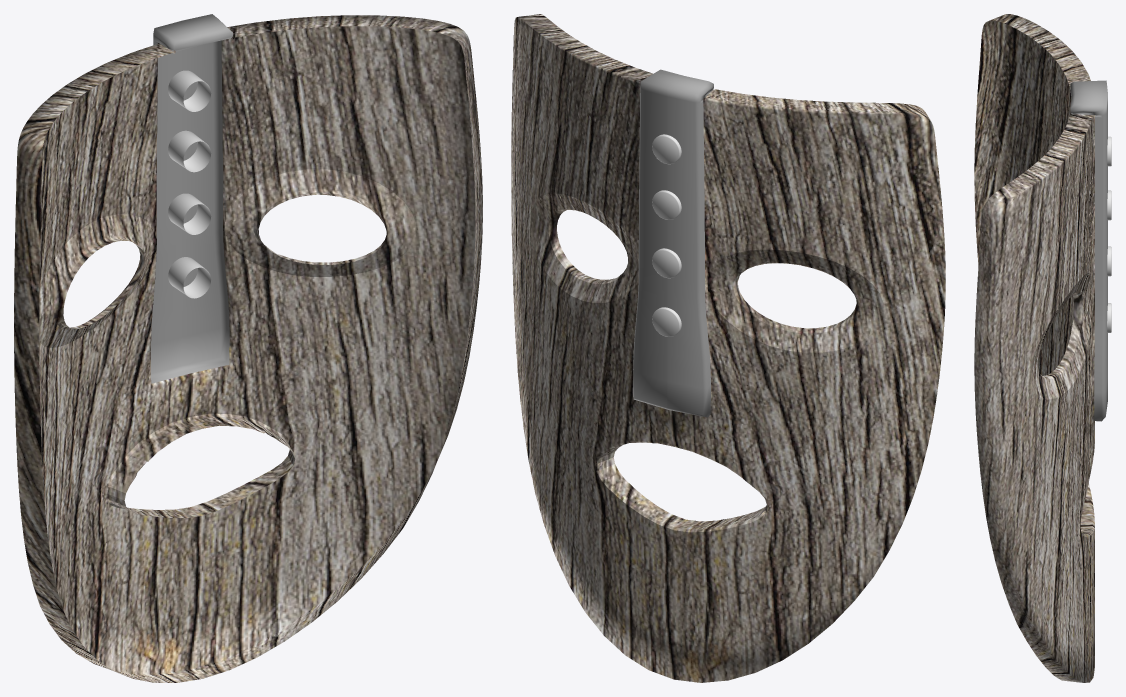
Rendered from Green Mask Wooden.fbx.
3 views of the same model, side by side, from view 1: azimuth 30°, elevation 25°; view 2: azimuth 150°, elevation 25°; view 3: azimuth 270°, elevation 25° (orthographic). The views are drawn at different scales.
Visible parts, largest first — view 1: Green Mask Wooden; view 2: Green Mask Wooden; view 3: Green Mask Wooden.
Boxes of the visible parts, box(x1,y1,x2,y2) form: Green Mask Wooden: box(14, 14, 482, 682); Green Mask Wooden: box(511, 14, 945, 682); Green Mask Wooden: box(974, 14, 1111, 682).
Bounding box in the file's own units: 167 × 219 × 47.38.
Materials: 3 (1 with a texture image).
